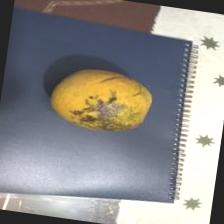Orange Rotten: (38, 47, 163, 158)
